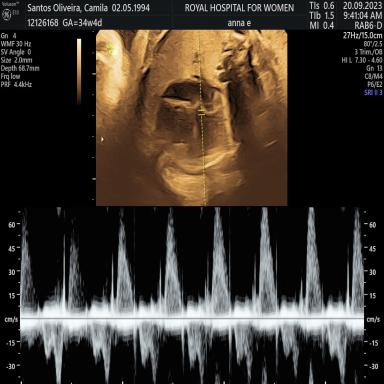Ultrasound-Waves: (26, 206, 361, 384)
